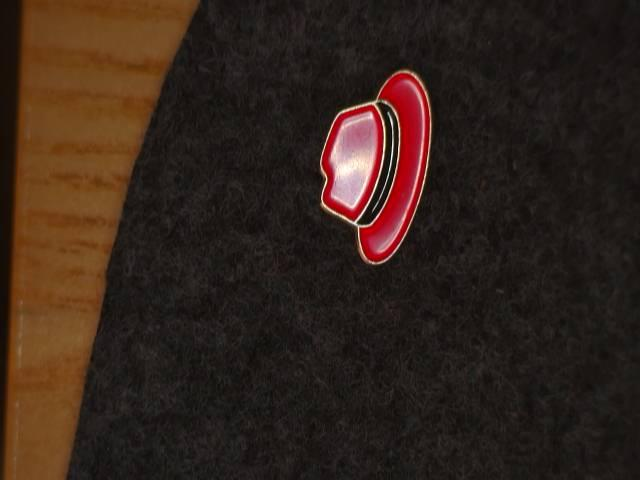Red-Hat: (298, 42, 487, 284)
